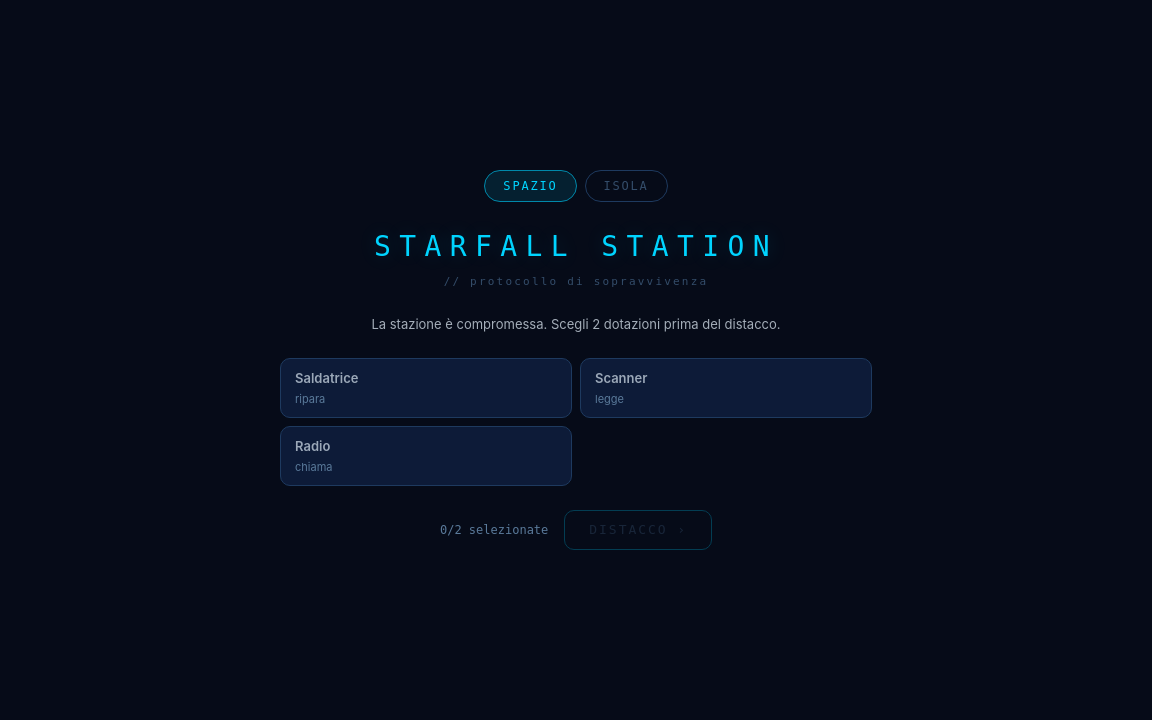
Scenario: disables an unavailable (item-gated) choice
Click the button with test id "item-welder": (327, 378) [280,358,572,418]
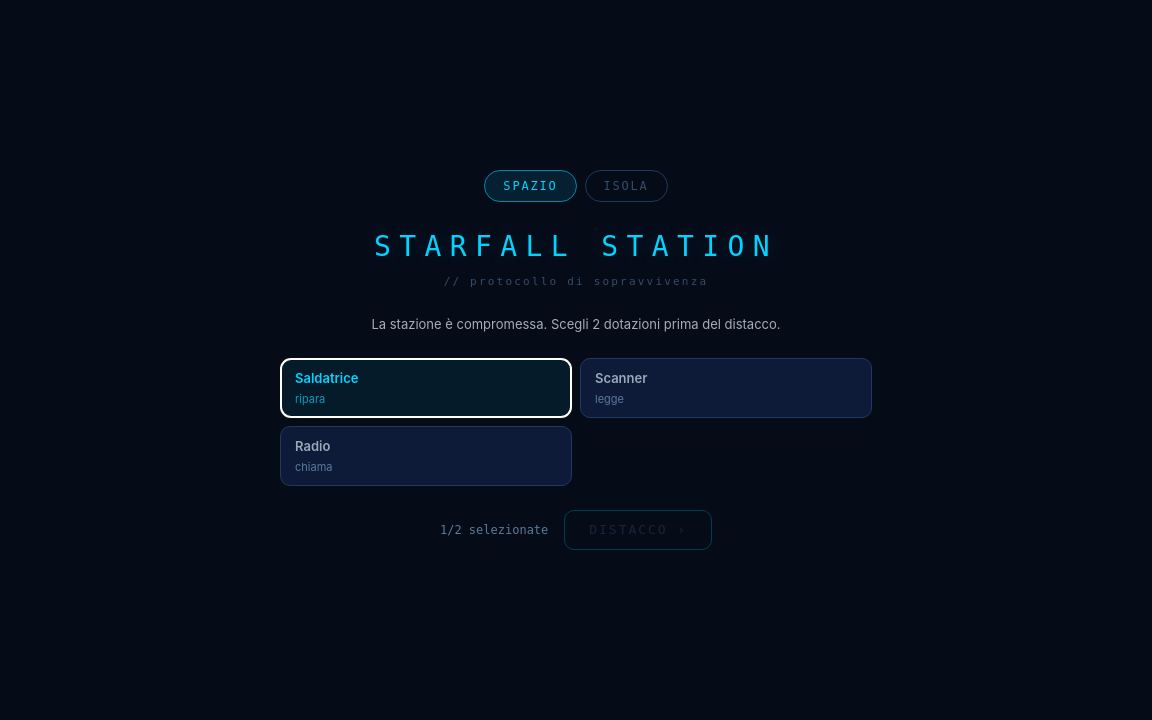
Click the button with test id "item-scanner": (621, 378) [580,358,872,418]
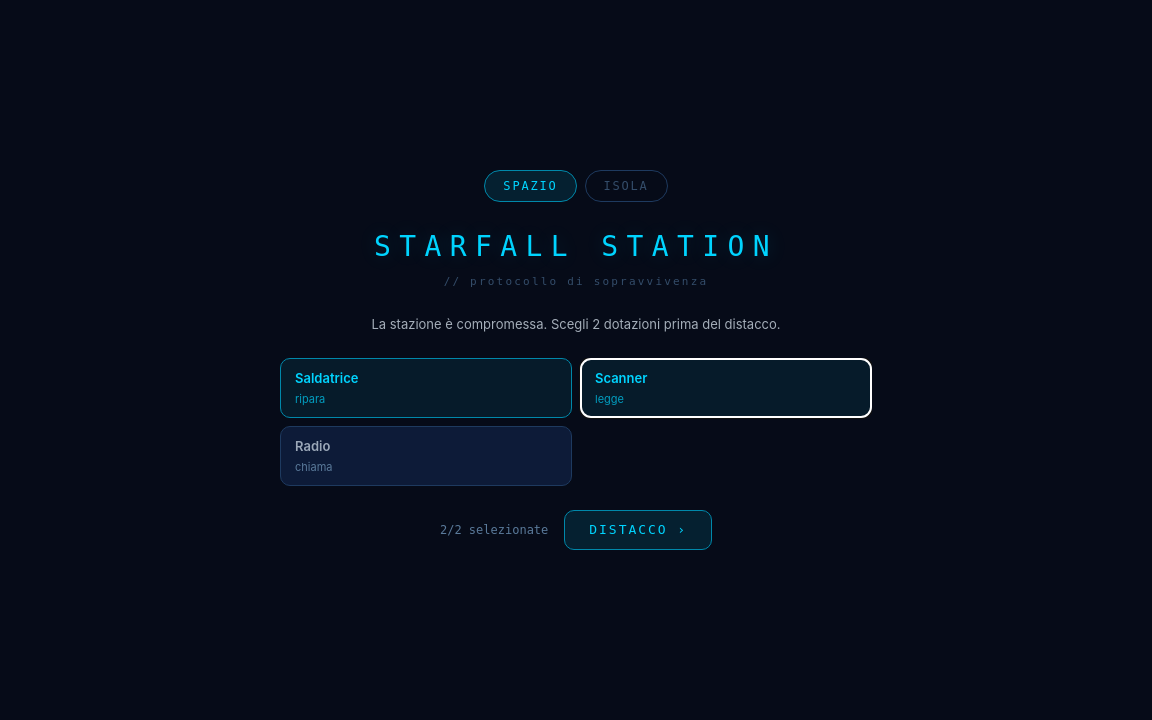
Click the button with test id "begin": (638, 530) [564,510,712,550]
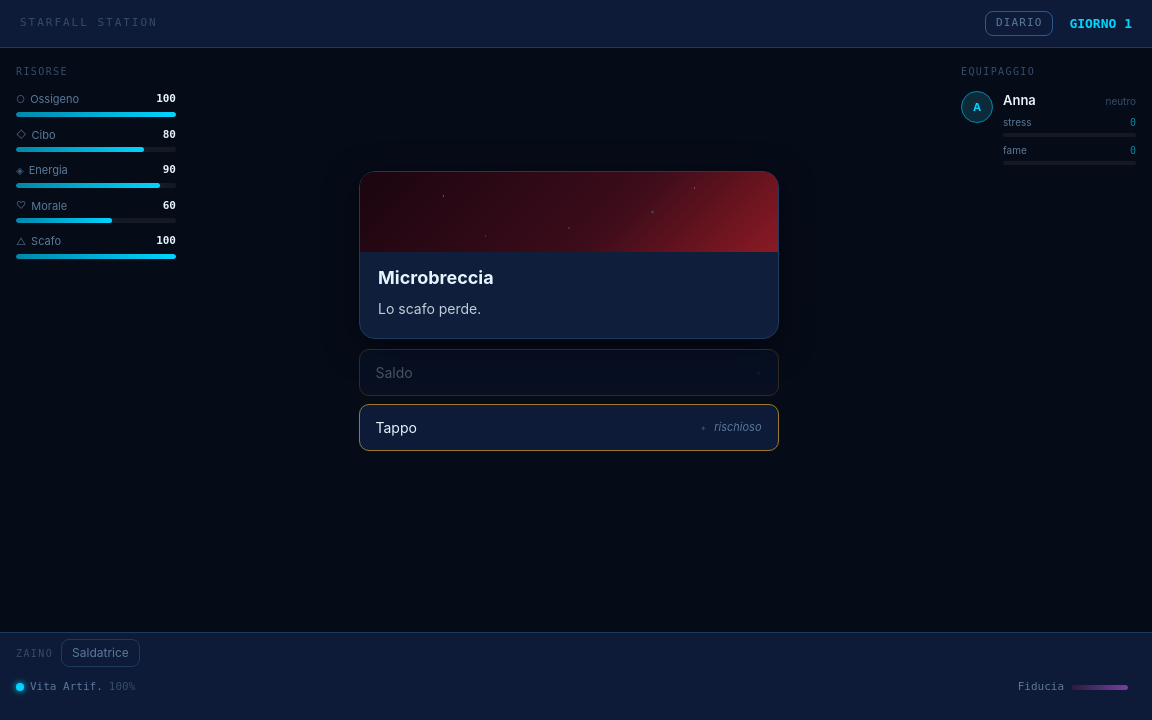
Check: the element with test id "card" is shown, box [358,171,778,339]
Check: the button with test id "choice-0" is disabled, box [358,349,778,396]
Check: the button with test id "choice-1" is enabled, box [358,404,778,451]
